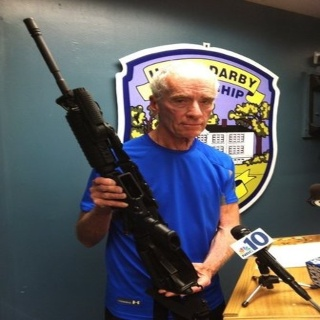rifle: (23, 16, 202, 301)
